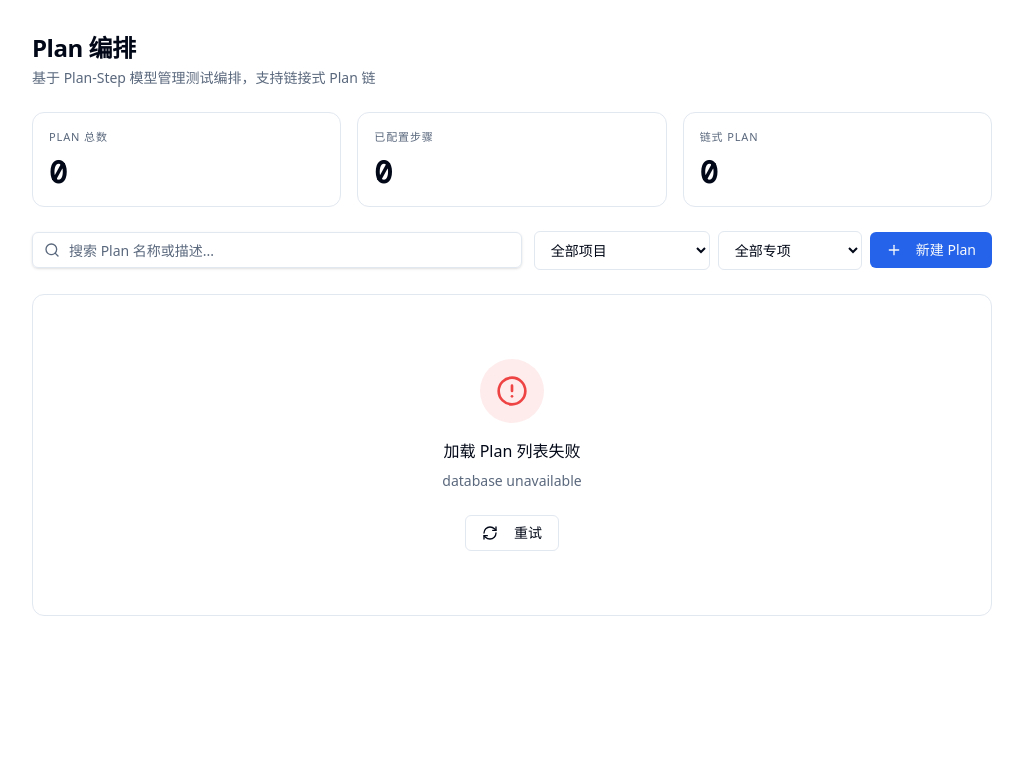
PlanListPage › renders query errors with a retry instead of an empty list
This screenshot has width=1024, height=768.
Check: the heading "加载 Plan 列表失败" is shown, box [444,440,580,462]
Check: the text "还没有 Plan" is not shown
Click the button "重试". click: click(512, 532)
box: [465,514,559,550]
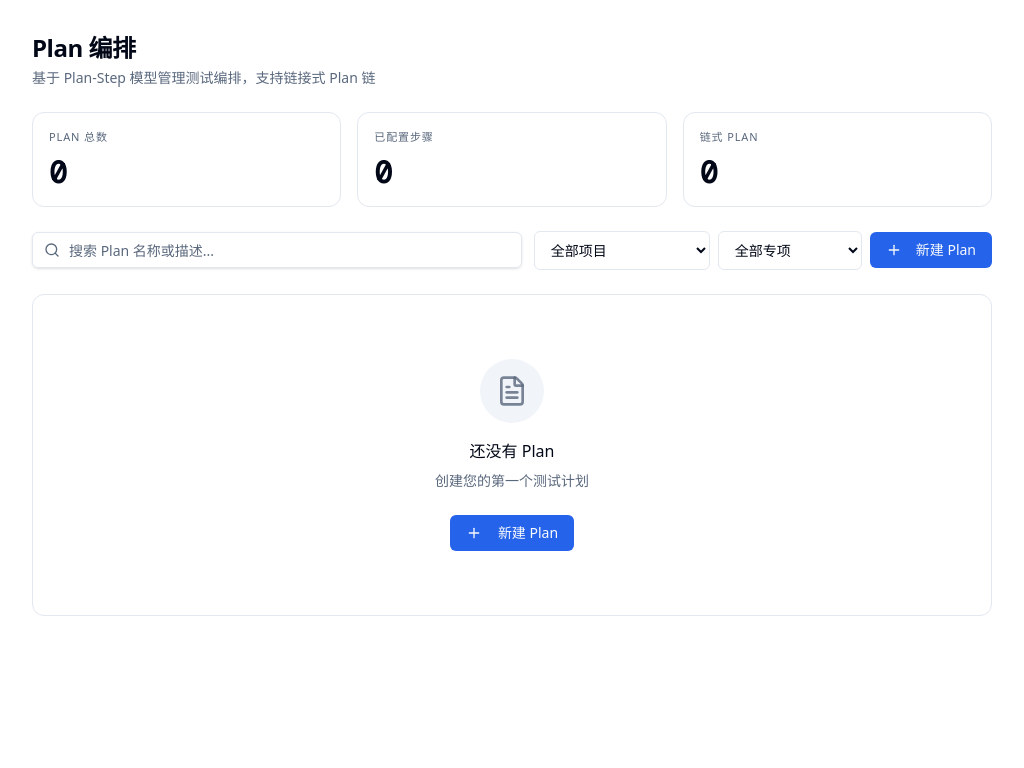
Check: the text "还没有 Plan" is shown, box [470,440,554,462]
